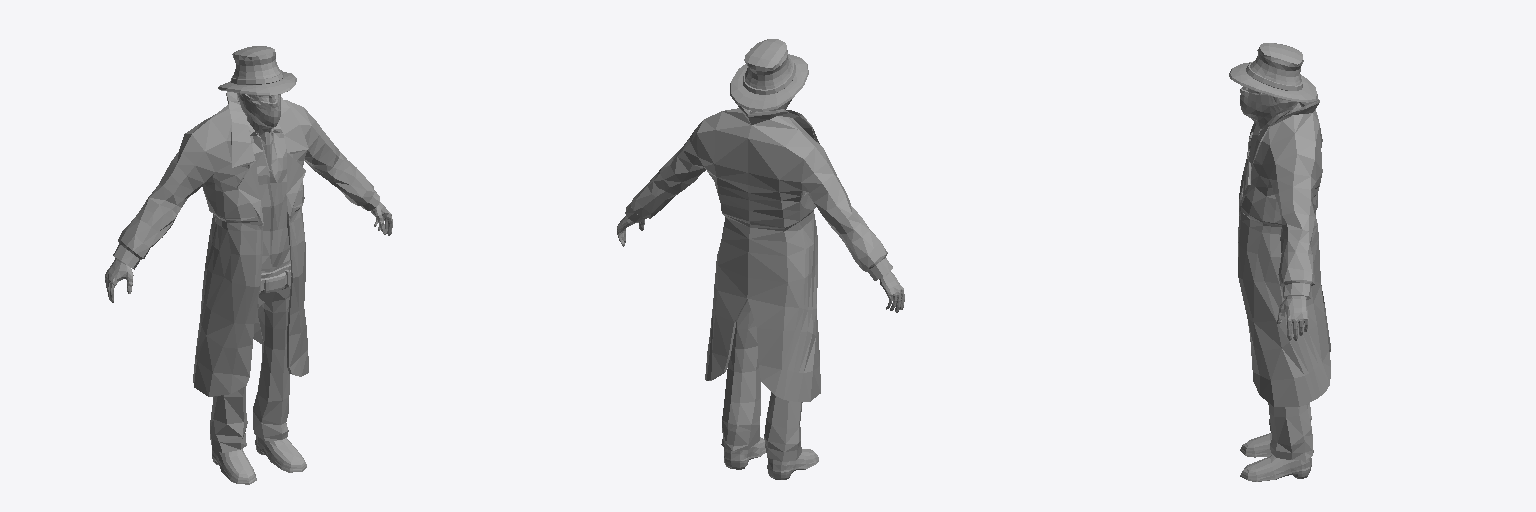
File: man.obj
3 views of the same model, side by side, from view 1: azimuth 30°, elevation 25°; view 2: azimuth 150°, elevation 25°; view 3: azimuth 270°, elevation 25° (orthographic).
Parts seen in each view (by area): view 1: Mesh_Object001; view 2: Mesh_Object001; view 3: Mesh_Object001.
Boxes of the visible parts, <box> form: Mesh_Object001: <box>105,46,392,484</box>; Mesh_Object001: <box>617,39,904,479</box>; Mesh_Object001: <box>1229,43,1330,481</box>.
Bounding box in the file's own units: 52.36 × 74.28 × 16.48.